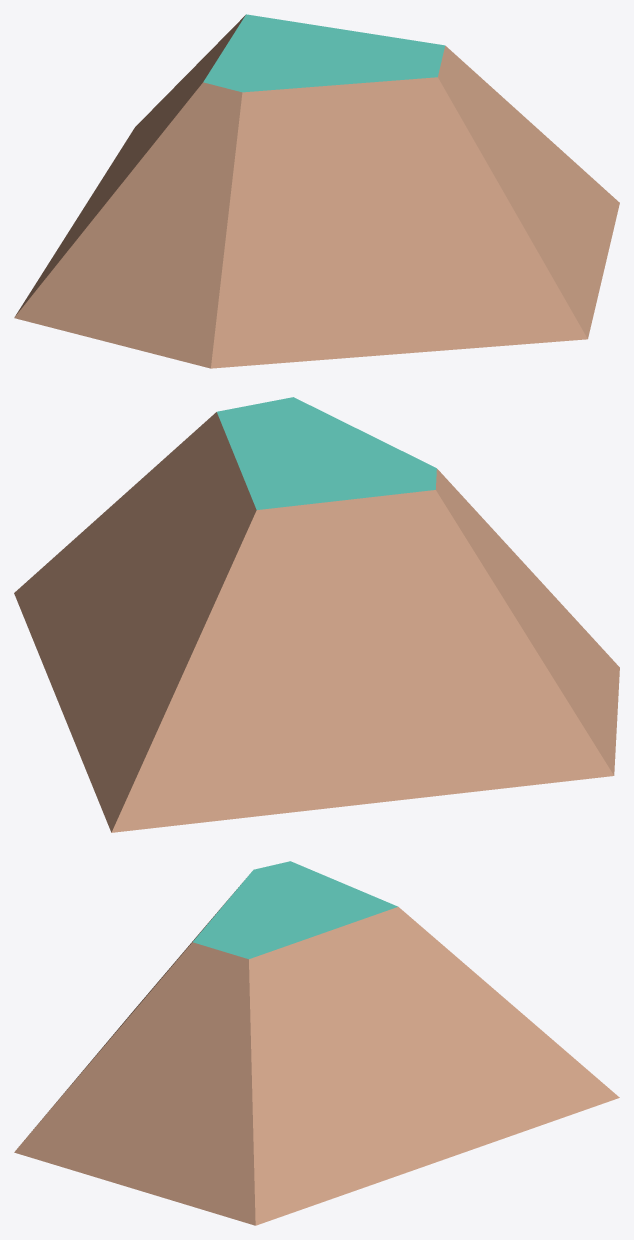
File: rock_smallC.glb
3 renders of one model, top to bottom at view 1: azimuth 30°, elevation 25°; view 2: azimuth 150°, elevation 25°; view 3: azimuth 270°, elevation 25°, orthographic. The views are drawn at different scales.
Parts seen in each view (by area): view 1: rock_smallC; view 2: rock_smallC; view 3: rock_smallC.
Boxes of the visible parts, x1,y1,x2,y2 form: rock_smallC: (14,14,619,368); rock_smallC: (14,397,619,832); rock_smallC: (14,861,619,1225).
Bounding box in the file's own units: 0.3608 × 0.1227 × 0.3608.
